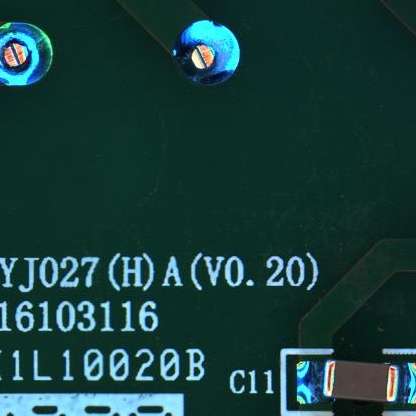spot: (168, 18, 240, 84), (1, 23, 53, 89)
